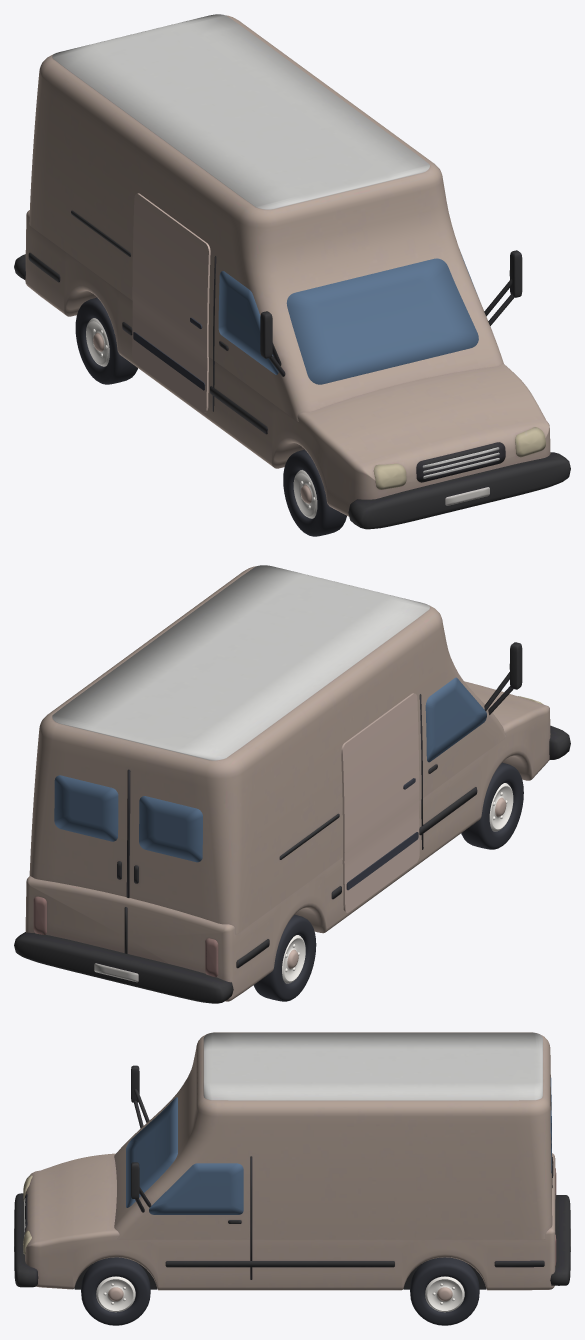
File: delivery_van.glb
3 views of the same model, one above another, from view 1: azimuth 30°, elevation 25°; view 2: azimuth 150°, elevation 25°; view 3: azimuth 270°, elevation 25° (orthographic). The views are drawn at different scales.
Visible parts, largest first — view 1: delivery-van_body, delivery-van_windows, delivery-van_sliding_door, delivery-van_wheel_fr, delivery-van_wheel_rr; view 2: delivery-van_body, delivery-van_sliding_door, delivery-van_windows, delivery-van_wheel_fr, delivery-van_wheel_rr; view 3: delivery-van_body, delivery-van_windows, delivery-van_wheel_fl, delivery-van_wheel_rl.
Part boxes in pixels (x1,y1,x2,y2): delivery-van_body: [14, 14, 570, 529]; delivery-van_windows: [218, 254, 478, 384]; delivery-van_sliding_door: [132, 193, 210, 412]; delivery-van_wheel_fr: [283, 449, 346, 536]; delivery-van_wheel_rr: [75, 297, 137, 384]; delivery-van_body: [14, 565, 570, 1003]; delivery-van_sliding_door: [341, 693, 419, 912]; delivery-van_windows: [54, 677, 486, 862]; delivery-van_wheel_fr: [461, 762, 523, 849]; delivery-van_wheel_rr: [253, 914, 316, 1001]; delivery-van_body: [14, 1032, 570, 1290]; delivery-van_windows: [126, 1078, 551, 1214]; delivery-van_wheel_fl: [81, 1257, 150, 1325]; delivery-van_wheel_rl: [410, 1257, 479, 1325].
Bounding box in the file's own units: 2.44 × 2.54 × 5.76.
Materials: 16 (1 with a texture image).
